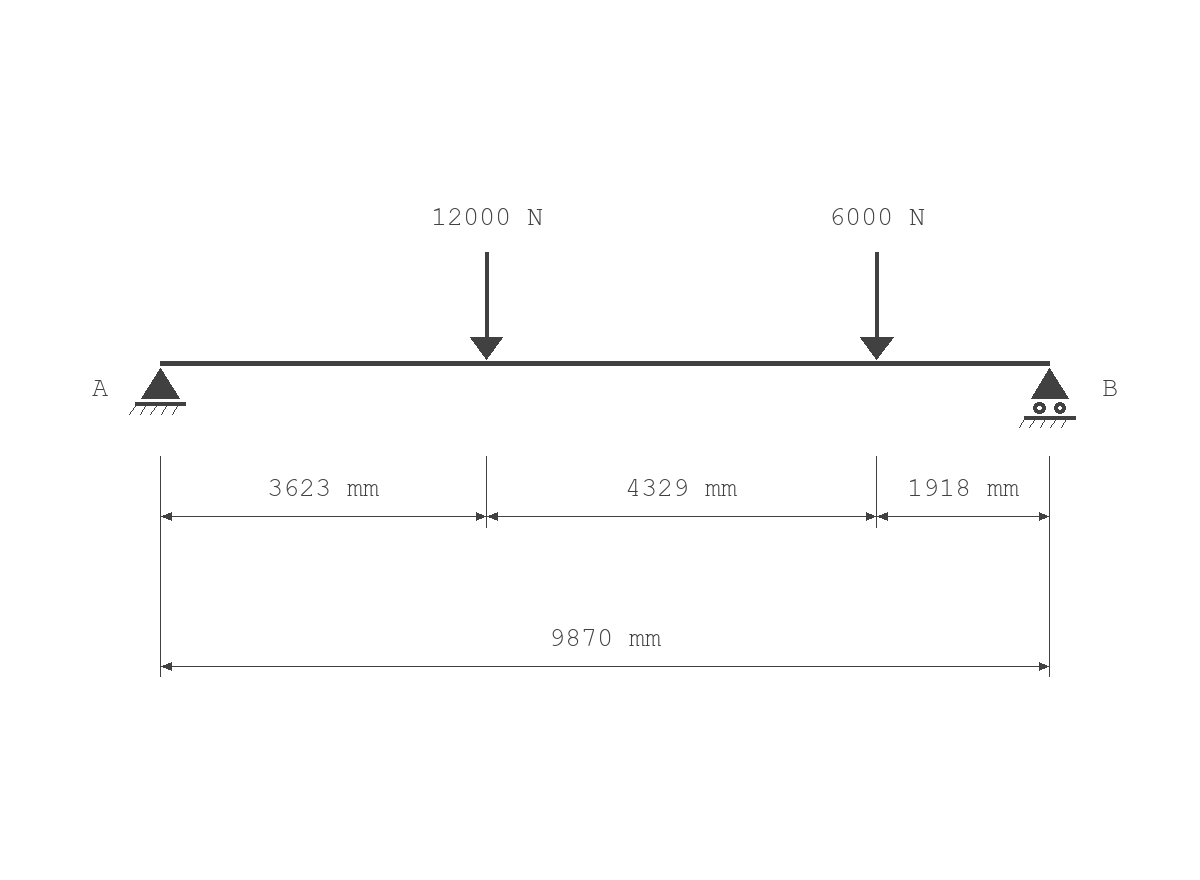pin_support: (129, 368, 186, 415)
point_load: (860, 252, 894, 360), (470, 252, 503, 360)
roller_support: (1019, 368, 1076, 428)
